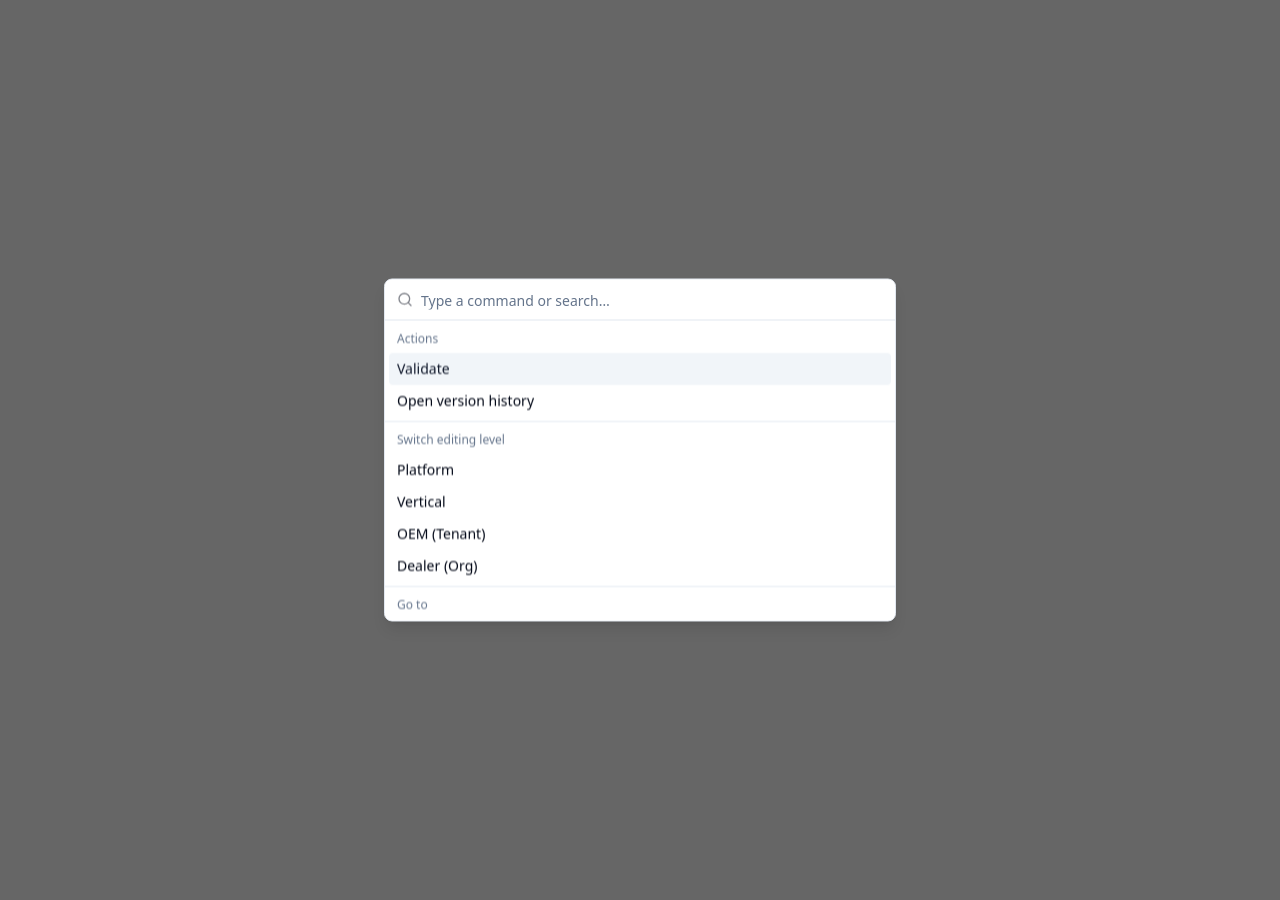
it: CommandPalette › empty filter shows 'No commands match'
Type "zzzzzzz" into the dropdown with placeholder "Type a command or search…" at [652, 300], box [421,280,883,320]
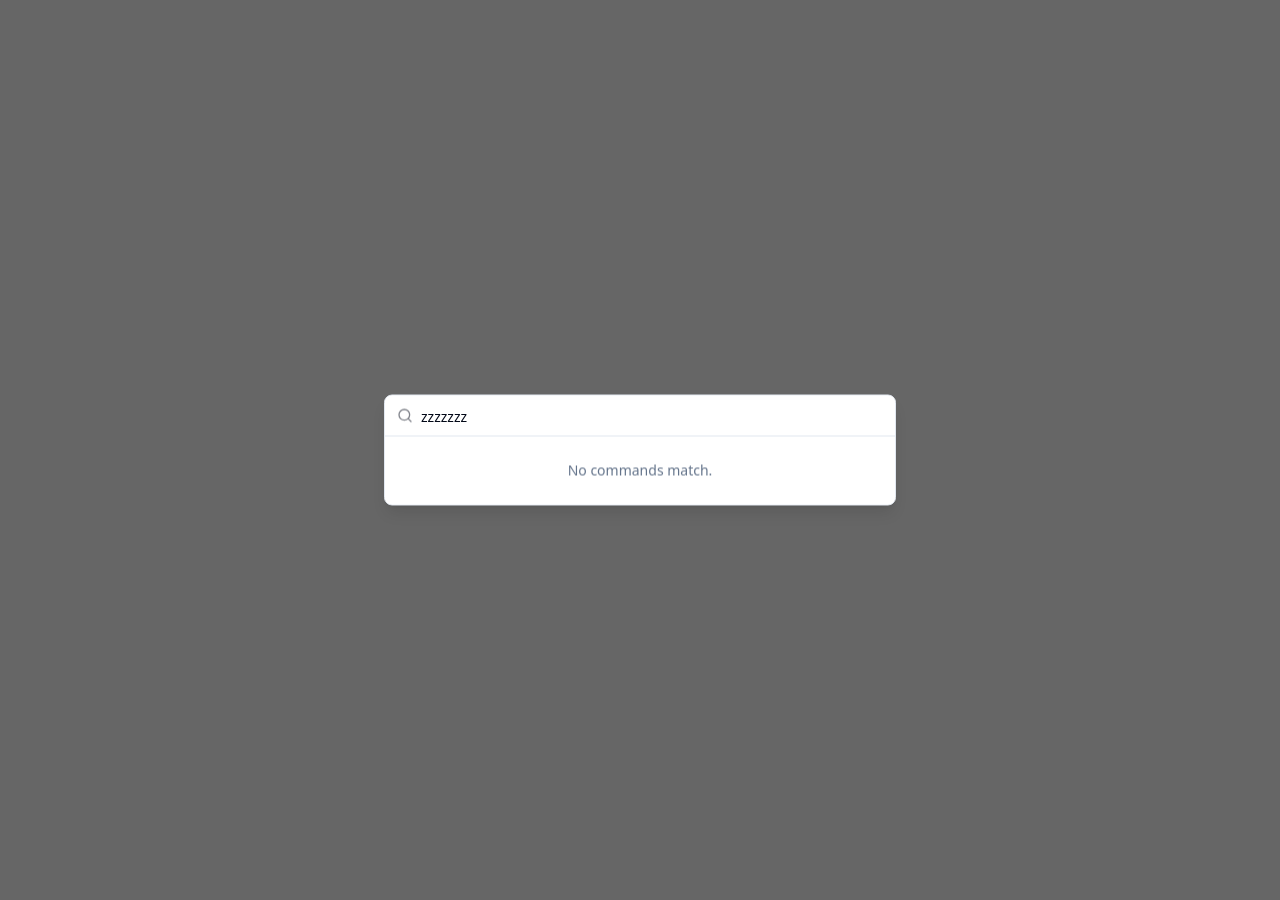
Result: the text "No commands match." is shown at [568,460,712,480]
